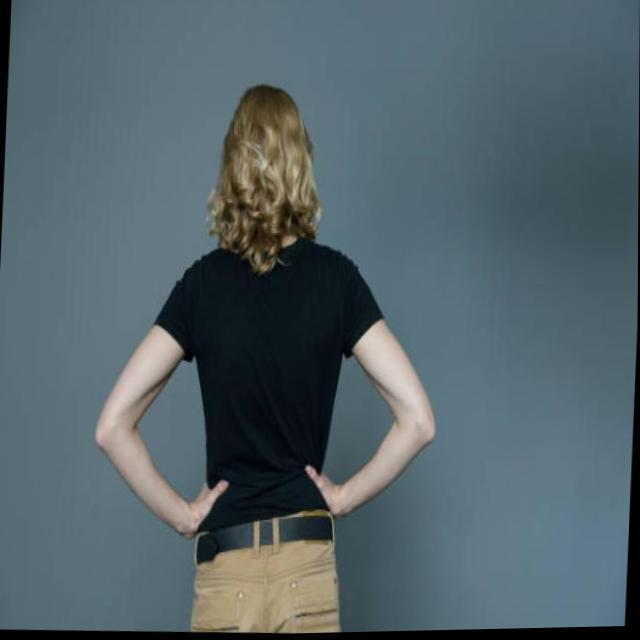no helmet: (205, 80, 330, 261)
